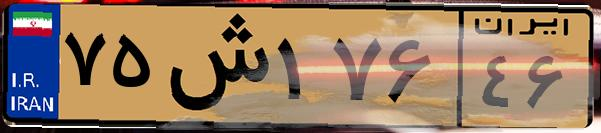1: (270, 28, 330, 110)
4: (475, 38, 525, 113)
5: (110, 28, 158, 98)
6: (385, 28, 445, 110), (525, 38, 570, 115)
7: (330, 28, 385, 110), (57, 26, 110, 100)
ش: (158, 12, 270, 120)
